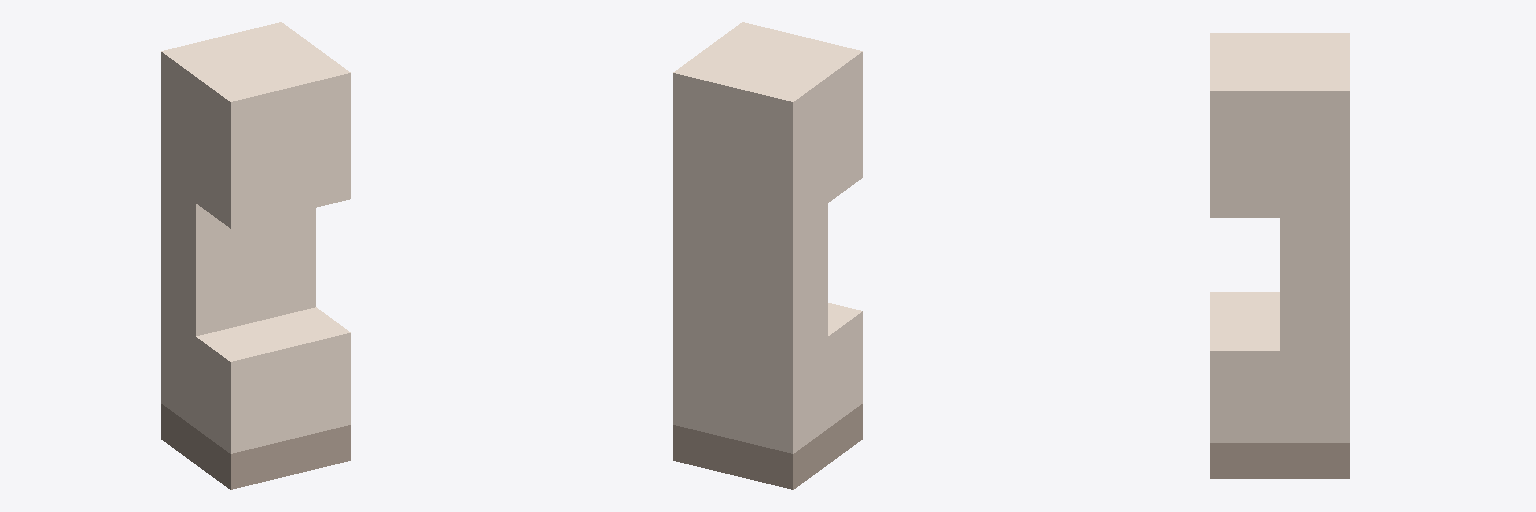
The picture shows the model from 3 angles: view 1: azimuth 30°, elevation 25°; view 2: azimuth 150°, elevation 25°; view 3: azimuth 270°, elevation 25°; orthographic projection.
Visible parts, largest first — view 1: Cube; view 2: Cube; view 3: Cube.
Part boxes in pixels (bbox=[...]): Cube: bbox=[161, 22, 350, 489]; Cube: bbox=[673, 22, 862, 489]; Cube: bbox=[1210, 33, 1349, 478].
Bounding box in the file's own units: 4 × 12.3 × 4.
Materials: 1 (1 with a texture image).